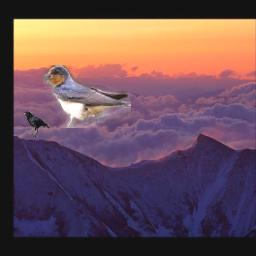Crow: (24, 110, 50, 137)
Swallow: (44, 66, 132, 129)
